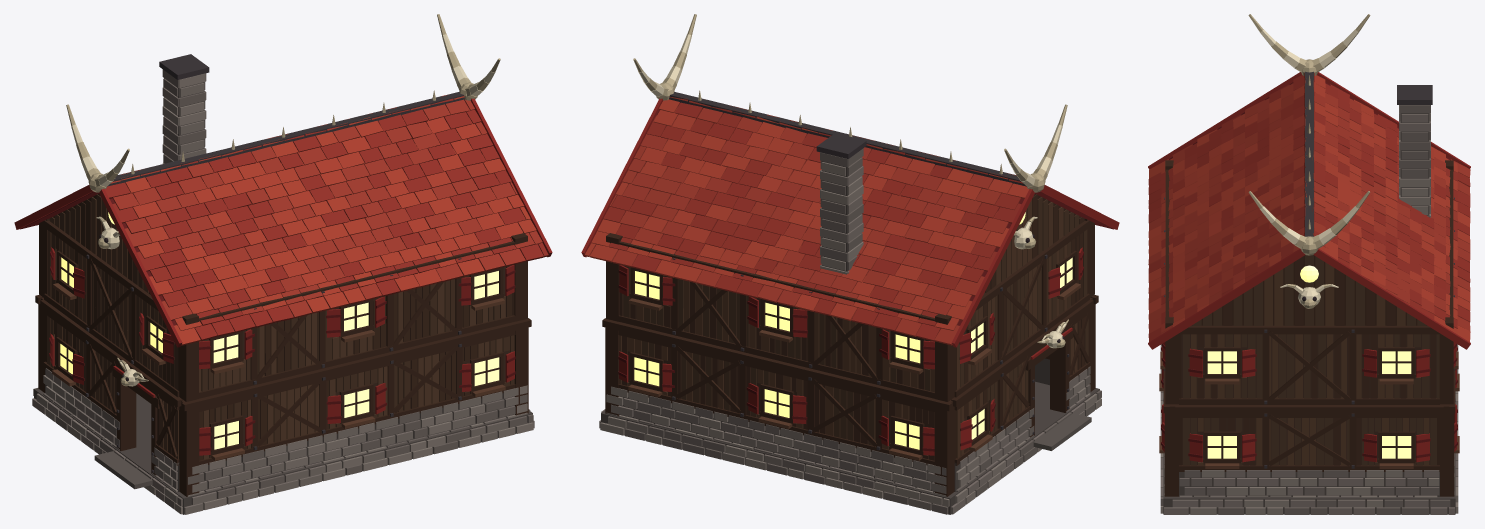
File: house_tavern.glb
3 views of the same model, side by side, from view 1: azimuth 30°, elevation 25°; view 2: azimuth 150°, elevation 25°; view 3: azimuth 270°, elevation 25° (orthographic). The views are drawn at different scales.
Visible parts, largest first — view 1: tavern_roof, tavern_S_hi, tavern_US_lo, tavern_US_hi, tavern_base, tavern_S_lo, tavern_W_hi, tavern_UW_hi, tavern_UW_lo, tavern_W_lo; view 2: tavern_roof, tavern_N_hi, tavern_UN_lo, tavern_UN_hi, tavern_base, tavern_N_lo, tavern_W_hi, tavern_UW_hi, tavern_UW_lo, tavern_W_lo; view 3: tavern_roof, tavern_E_hi, tavern_UE_hi, tavern_UE_lo, tavern_E_lo, tavern_base, tavern_US_hi, tavern_UN_hi, tavern_S_hi, tavern_N_hi, tavern_US_lo, tavern_UN_lo (+2 smaller).
Boxes of the visible parts, x1=… form: tavern_roof: x1=14, y1=14, x2=552, y2=347; tavern_S_hi: x1=179, y1=327, x2=528, y2=467; tavern_US_lo: x1=178, y1=290, x2=531, y2=411; tavern_US_hi: x1=178, y1=232, x2=527, y2=380; tavern_base: x1=32, y1=388, x2=534, y2=514; tavern_S_lo: x1=179, y1=384, x2=528, y2=496; tavern_W_hi: x1=43, y1=309, x2=179, y2=462; tavern_UW_hi: x1=44, y1=220, x2=178, y2=367; tavern_UW_lo: x1=40, y1=273, x2=182, y2=406; tavern_W_lo: x1=43, y1=365, x2=179, y2=491; tavern_roof: x1=581, y1=14, x2=1119, y2=347; tavern_N_hi: x1=605, y1=327, x2=956, y2=467; tavern_UN_lo: x1=602, y1=290, x2=955, y2=411; tavern_UN_hi: x1=606, y1=233, x2=955, y2=380; tavern_base: x1=599, y1=381, x2=1101, y2=514; tavern_N_lo: x1=605, y1=384, x2=954, y2=496; tavern_W_hi: x1=954, y1=309, x2=1090, y2=462; tavern_UW_hi: x1=956, y1=220, x2=1089, y2=366; tavern_UW_lo: x1=951, y1=272, x2=1093, y2=406; tavern_W_lo: x1=954, y1=365, x2=1090, y2=491; tavern_roof: x1=1148, y1=14, x2=1470, y2=349; tavern_E_hi: x1=1179, y1=413, x2=1439, y2=469; tavern_UE_hi: x1=1179, y1=325, x2=1439, y2=401; tavern_UE_lo: x1=1175, y1=376, x2=1443, y2=413; tavern_E_lo: x1=1179, y1=469, x2=1439, y2=497; tavern_base: x1=1160, y1=344, x2=1458, y2=514; tavern_US_hi: x1=1161, y1=160, x2=1181, y2=376; tavern_UN_hi: x1=1439, y1=160, x2=1457, y2=376; tavern_S_hi: x1=1159, y1=346, x2=1182, y2=467; tavern_N_hi: x1=1437, y1=346, x2=1459, y2=467; tavern_US_lo: x1=1160, y1=351, x2=1181, y2=413; tavern_UN_lo: x1=1439, y1=351, x2=1458, y2=413.
Bounding box in the file's own units: 12.91 × 10.66 × 9.49.
